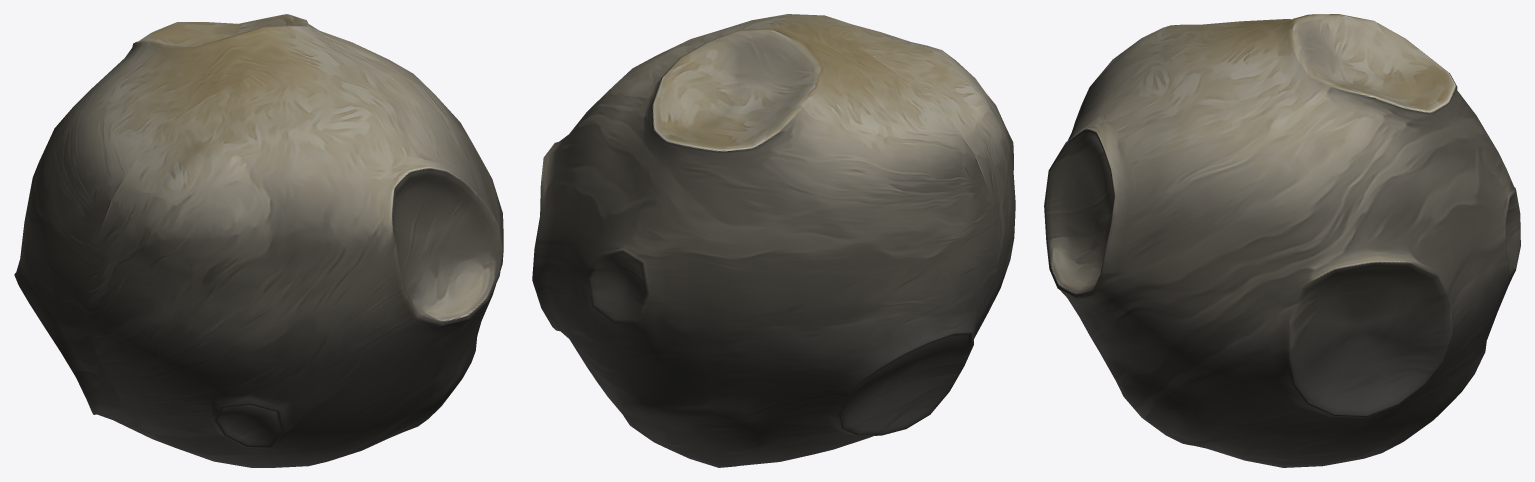
Rendered from GFLMeteor.fbx.
3 renders of one model, left to right at view 1: azimuth 30°, elevation 25°; view 2: azimuth 150°, elevation 25°; view 3: azimuth 270°, elevation 25°, orthographic. The views are drawn at different scales.
Visible parts, largest first — view 1: Meteor; view 2: Meteor; view 3: Meteor.
Part boxes in pixels (x1=…): Meteor: x1=14, y1=14, x2=503, y2=467; Meteor: x1=532, y1=14, x2=1015, y2=467; Meteor: x1=1044, y1=14, x2=1520, y2=467.
Size of the model in its own units: 21.85 by 20.76 by 21.72.
